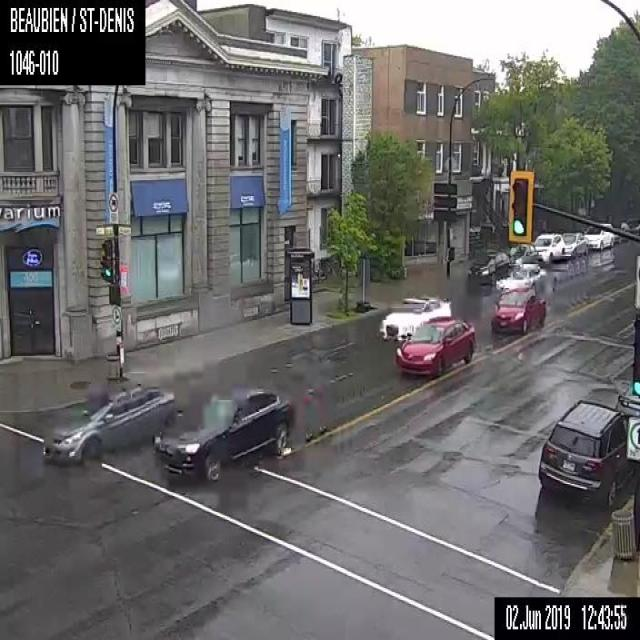vehicle: (152, 384, 294, 480), (42, 383, 175, 466), (536, 400, 634, 509), (394, 316, 474, 376), (378, 294, 452, 342), (491, 287, 545, 333), (467, 250, 508, 286), (501, 262, 546, 294), (530, 232, 566, 263), (616, 381, 639, 419), (582, 222, 614, 249), (507, 241, 538, 264), (561, 231, 588, 257)
